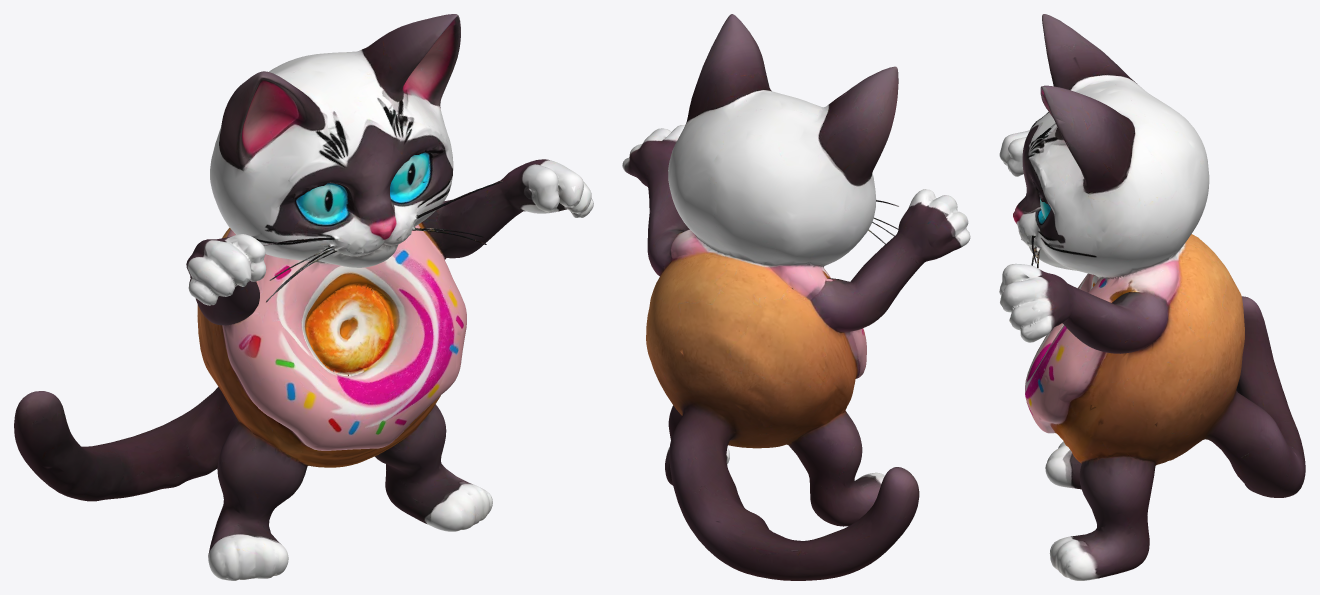
Rendered from cosmic-donut-cat-21683.glb.
The picture shows the model from 3 angles, left to right: view 1: azimuth 30°, elevation 25°; view 2: azimuth 150°, elevation 25°; view 3: azimuth 270°, elevation 25°; orthographic projection. The views are drawn at different scales.
Size of the model in its own units: 1.75 by 1.91 by 1.12.
1 material, 1 textured.
